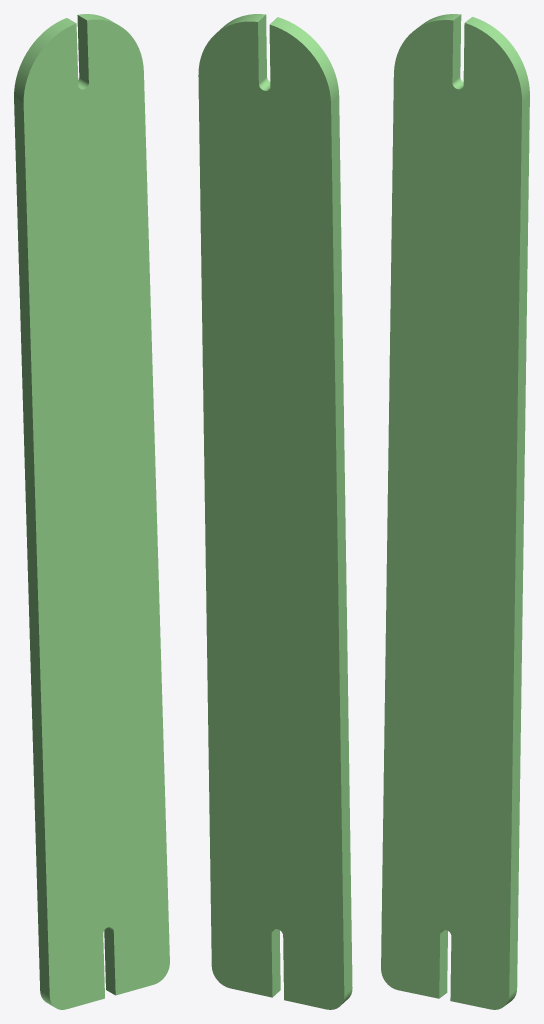
3 renders of one model, left to right at view 1: azimuth 30°, elevation 25°; view 2: azimuth 150°, elevation 25°; view 3: azimuth 330°, elevation 25°, orthographic. The views are drawn at different scales.
Visible parts, largest first — view 1: 03; view 2: 03; view 3: 03.
Part boxes in pixels (x1,y1,x2,y2): 03: (14, 14, 169, 1009); 03: (198, 14, 352, 1009); 03: (381, 14, 529, 1009).
Size of the model in its own units: 17.81 by 124 by 7.69.
